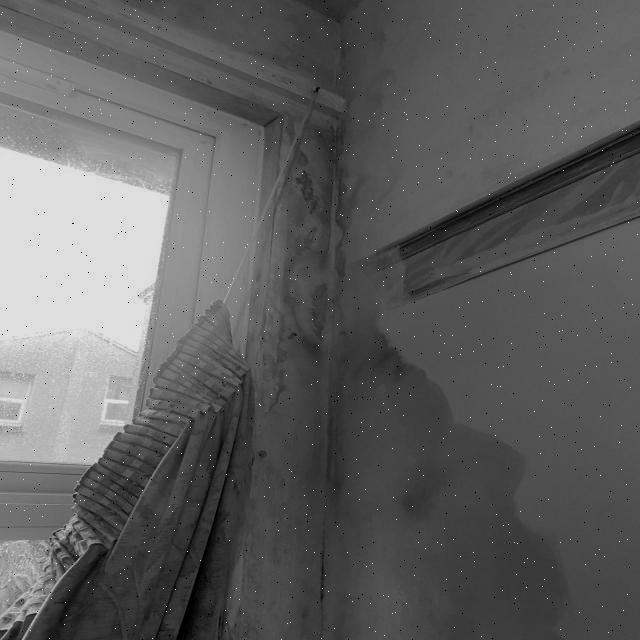stain marks: (260, 0, 380, 640), (379, 324, 580, 640), (385, 0, 640, 214), (202, 425, 260, 640)
